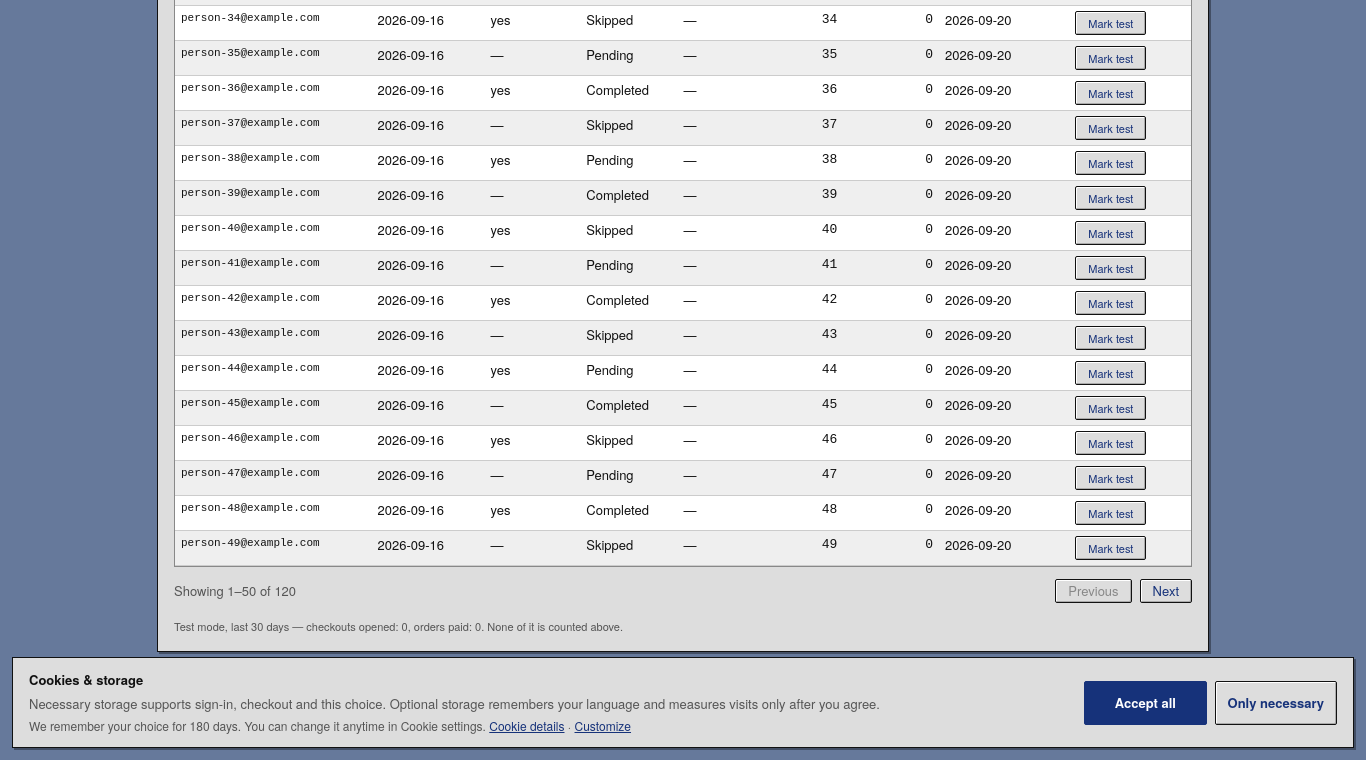
Test: owner dashboard accounts list › asks for the next page, and stops at the last one
The width and height of the screenshot is (1366, 760).
(page scrolled)
What coordinates should you click on to do the following:
click the button "Next"
I would click on:
 (1166, 591)
Its box is [1140,579,1192,603].
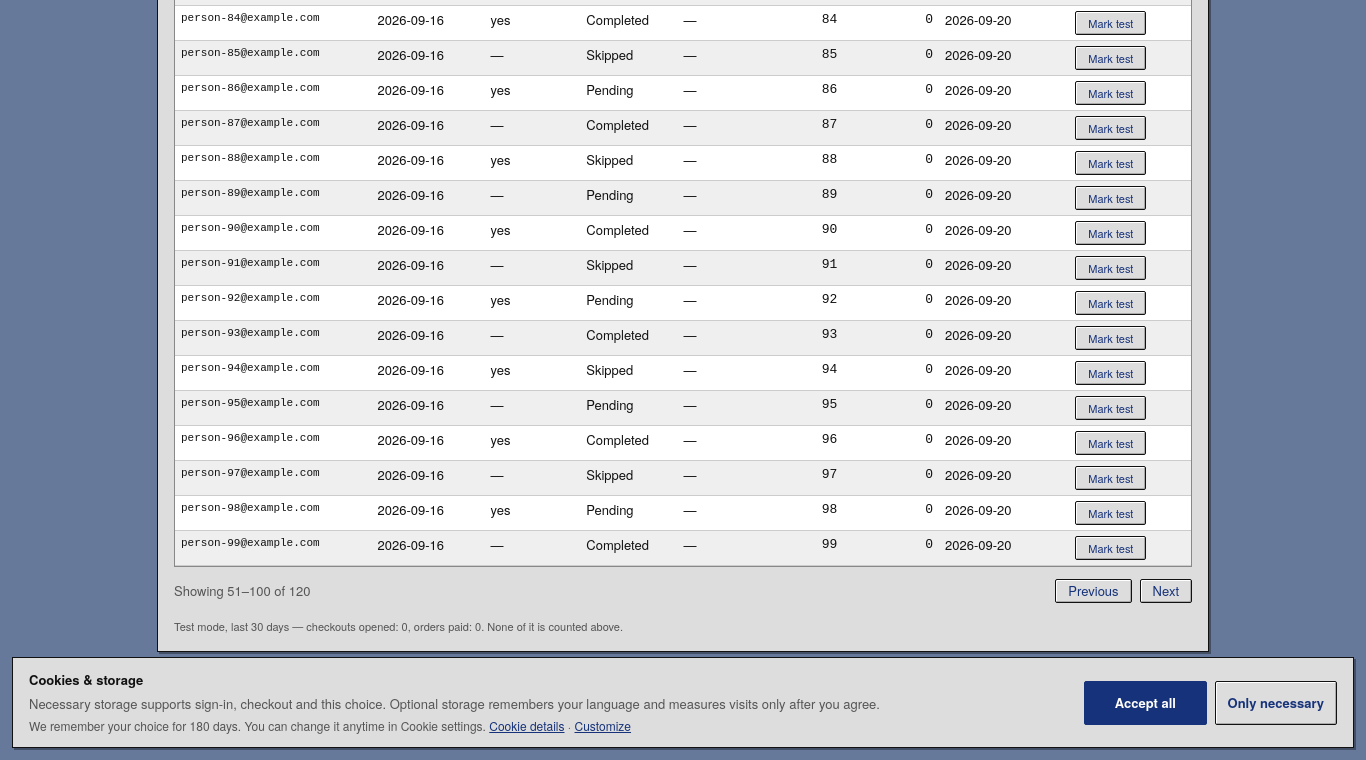
What coordinates should you click on to do the following:
click the button "Next"
I would click on:
 (1166, 591)
Its box is [1140,579,1192,603].
(page scrolled)
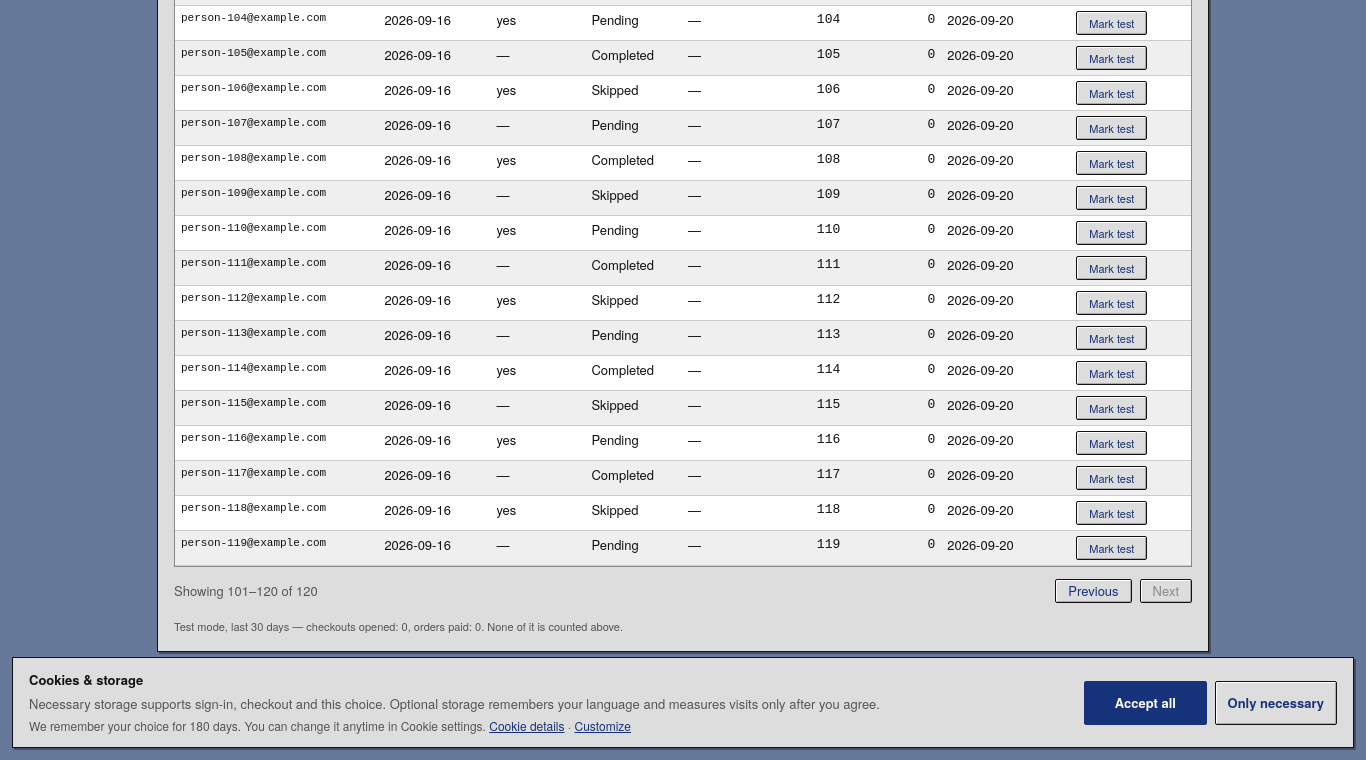
Check: the button "Previous" is enabled, box [1055,579,1132,603]
Check: the text "Showing 101–120 of 120" is shown, box [174,582,318,601]
Check: the button "Next" is disabled, box [1140,579,1192,603]
